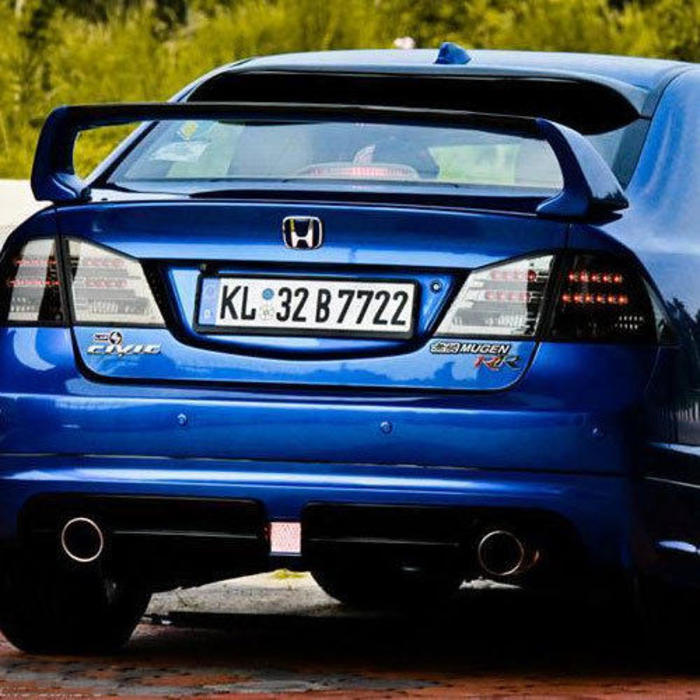n: (191, 270, 418, 336)
